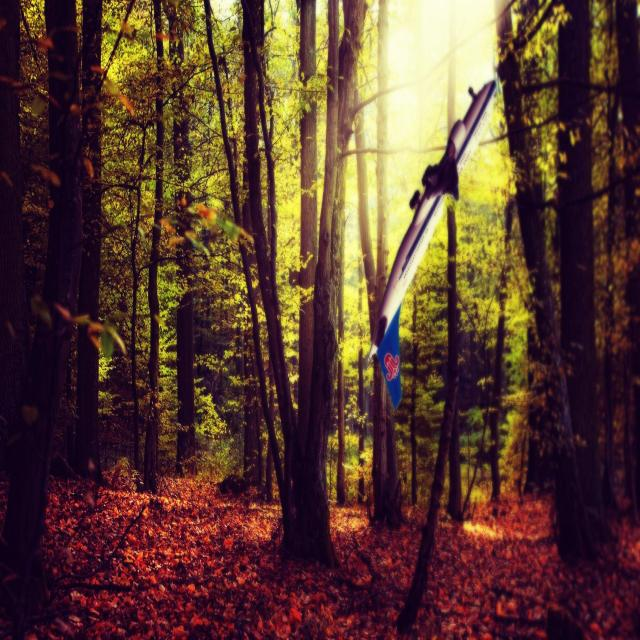airplane: (367, 80, 496, 409)
